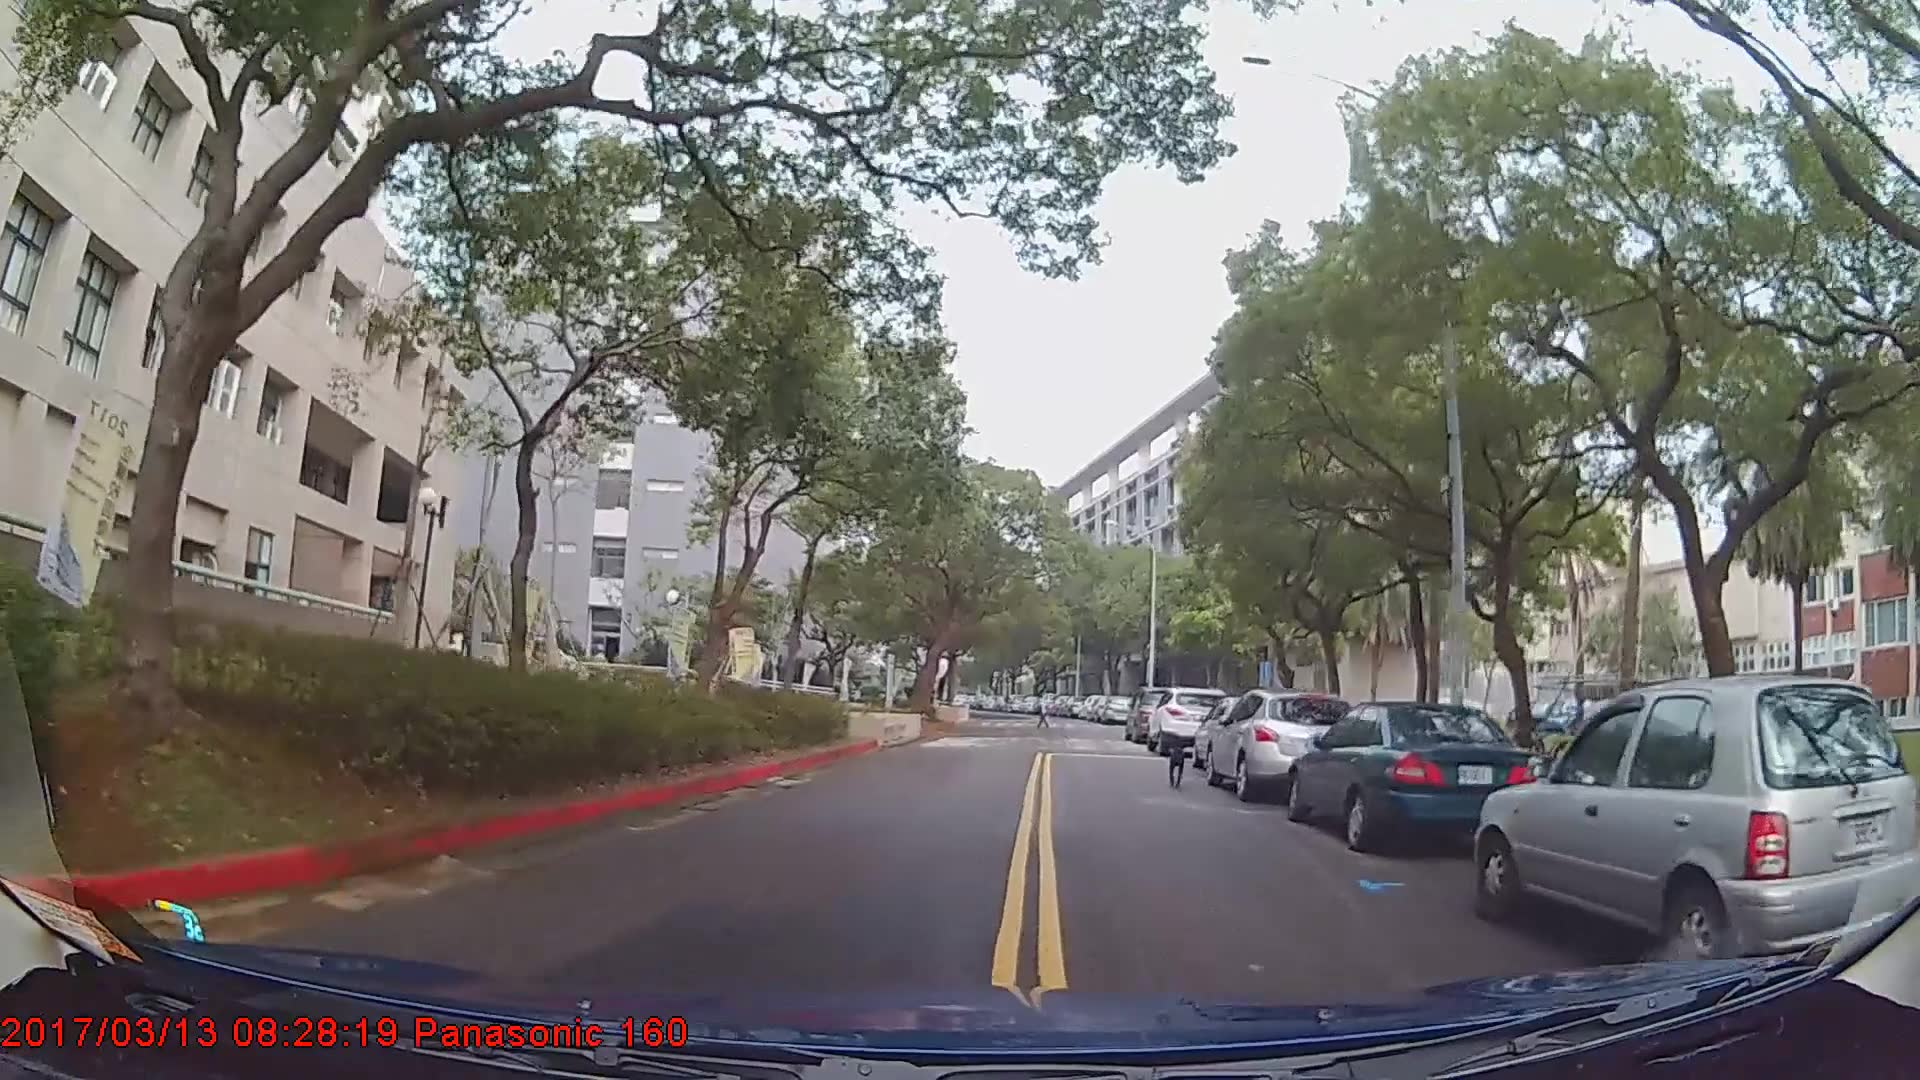pedestrian: (1036, 692, 1056, 731)
vehicle: (1475, 669, 1917, 981), (1286, 701, 1551, 857), (1202, 688, 1359, 802), (1147, 683, 1231, 752), (1099, 693, 1135, 726)
